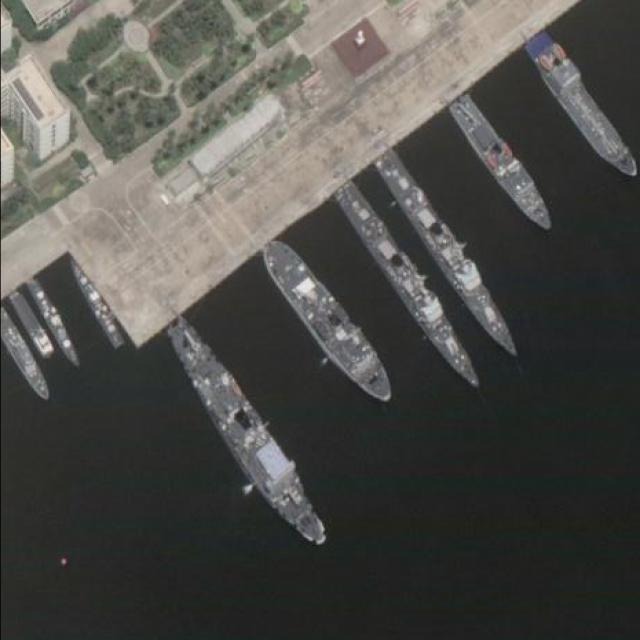Frigate: (445, 93, 563, 236)
Landing: (518, 30, 639, 175)
Other Warship: (146, 311, 341, 557), (328, 179, 492, 392), (369, 150, 530, 359), (254, 228, 404, 416), (63, 253, 130, 351), (24, 277, 87, 374)
